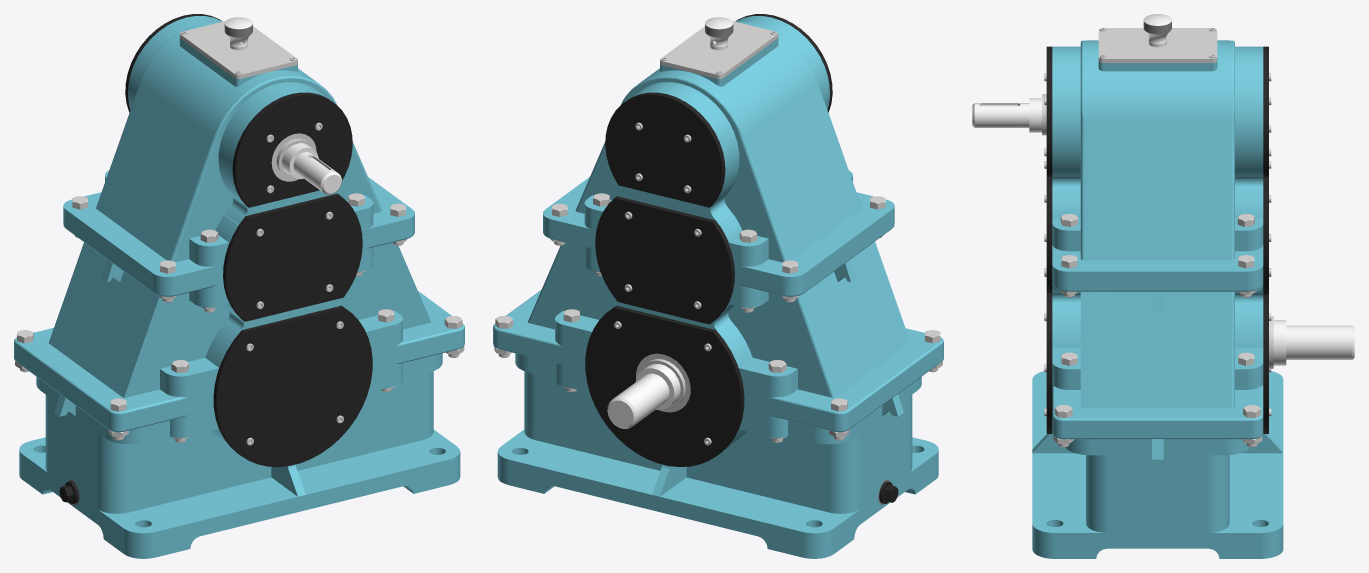
The model's file is gear anim.glb.
The picture shows the model from 3 angles, left to right: view 1: azimuth 30°, elevation 25°; view 2: azimuth 150°, elevation 25°; view 3: azimuth 270°, elevation 25°; orthographic projection.
Visible parts, largest first — view 1: Îáîëî÷êà.008, Îáîëî÷êà.006, Îáîëî÷êà.007, Îáîëî÷êà.023, Îáîëî÷êà.011, Îáîëî÷êà.020, Îáîëî÷êà.028, Îáîëî÷êà.001, Îáîëî÷êà.016; view 2: Îáîëî÷êà.008, Îáîëî÷êà.006, Îáîëî÷êà.007, Îáîëî÷êà.026, Îáîëî÷êà.012, Îáîëî÷êà.019, Îáîëî÷êà.028, Îáîëî÷êà, Îáîëî÷êà.027; view 3: Îáîëî÷êà.006, Îáîëî÷êà.008, Îáîëî÷êà.007, Îáîëî÷êà.028, Îáîëî÷êà, Îáîëî÷êà.001, Îáîëî÷êà.023, Îáîëî÷êà.020, Îáîëî÷êà.026, Îáîëî÷êà.011, Îáîëî÷êà.019, Îáîëî÷êà.012.
Part boxes in pixels (box(x1,y1,x2,y2)): Îáîëî÷êà.008: box(14, 336, 464, 558); Îáîëî÷êà.006: box(63, 16, 414, 287); Îáîëî÷êà.007: box(14, 216, 464, 422); Îáîëî÷êà.023: box(213, 305, 372, 466); Îáîëî÷êà.011: box(223, 193, 362, 321); Îáîëî÷êà.020: box(232, 92, 352, 207); Îáîëî÷êà.028: box(179, 21, 297, 78); Îáîëî÷êà.001: box(282, 143, 341, 194); Îáîëî÷êà.016: box(271, 133, 316, 181); Îáîëî÷êà.008: box(493, 336, 943, 558); Îáîëî÷êà.006: box(543, 16, 894, 287); Îáîëî÷êà.007: box(493, 216, 943, 422); Îáîëî÷êà.026: box(585, 305, 744, 466); Îáîëî÷êà.012: box(595, 196, 734, 324); Îáîëî÷êà.019: box(605, 92, 725, 207); Îáîëî÷êà.028: box(660, 21, 778, 78); Îáîëî÷êà: box(607, 364, 680, 428); Îáîëî÷êà.027: box(636, 353, 690, 412); Îáîëî÷êà.006: box(1052, 40, 1263, 281); Îáîëî÷êà.008: box(1032, 371, 1283, 558); Îáîëî÷êà.007: box(1052, 275, 1263, 429); Îáîëî÷êà.028: box(1098, 28, 1217, 62); Îáîëî÷êà: box(1273, 320, 1354, 365); Îáîëî÷êà.001: box(972, 98, 1041, 132); Îáîëî÷êà.023: box(1046, 293, 1052, 433); Îáîëî÷êà.020: box(1046, 46, 1052, 176); Îáîëî÷êà.026: box(1263, 294, 1268, 433); Îáîëî÷êà.011: box(1046, 176, 1052, 292); Îáîëî÷êà.019: box(1263, 46, 1268, 176); Îáîëî÷êà.012: box(1263, 176, 1268, 294).
Bounding box in the file's own units: 373 × 444 × 335.
